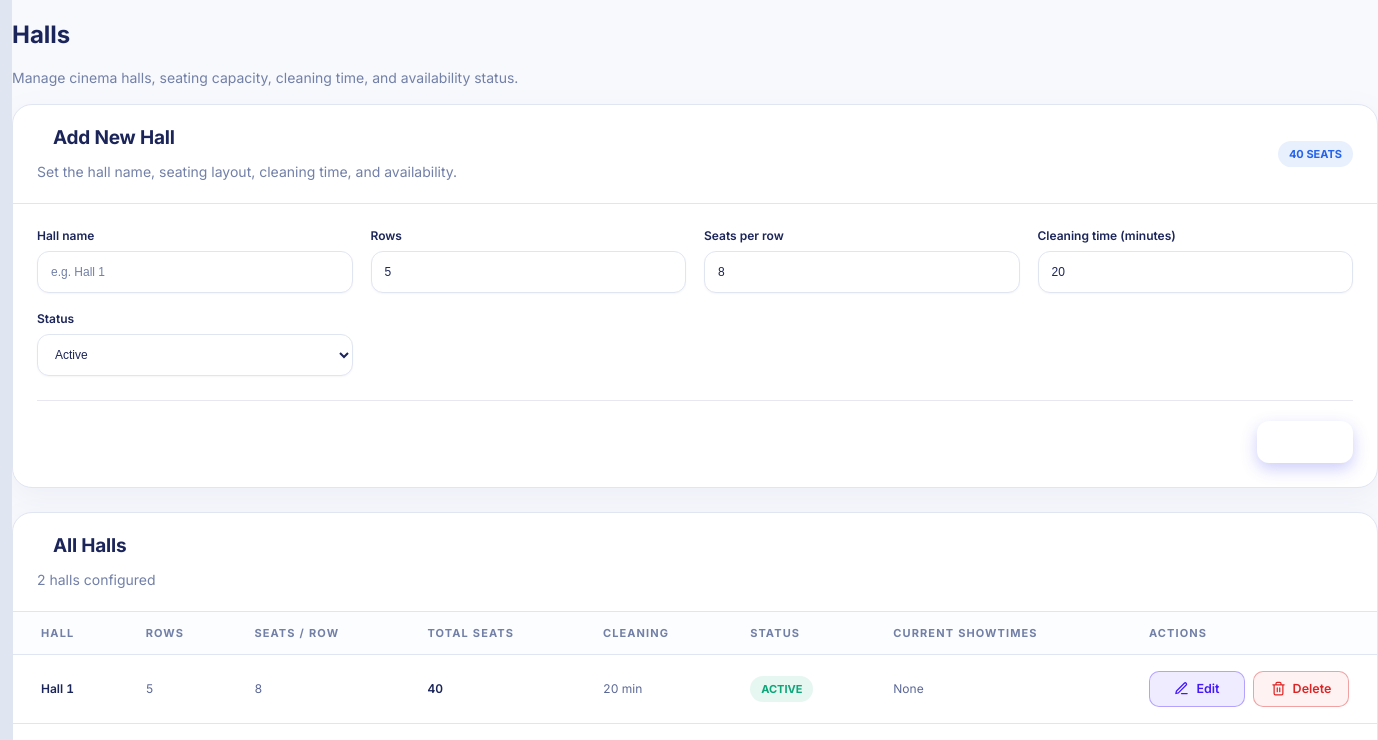
Test case: Halls Admin Page › should load the selected hall into the form for editing
Expected: the text "Hall 1" is shown, [13, 655, 126, 724]
Click the button "Edit" in the row of "Hall 1".
click(1197, 689)  # box [1149, 671, 1245, 707]
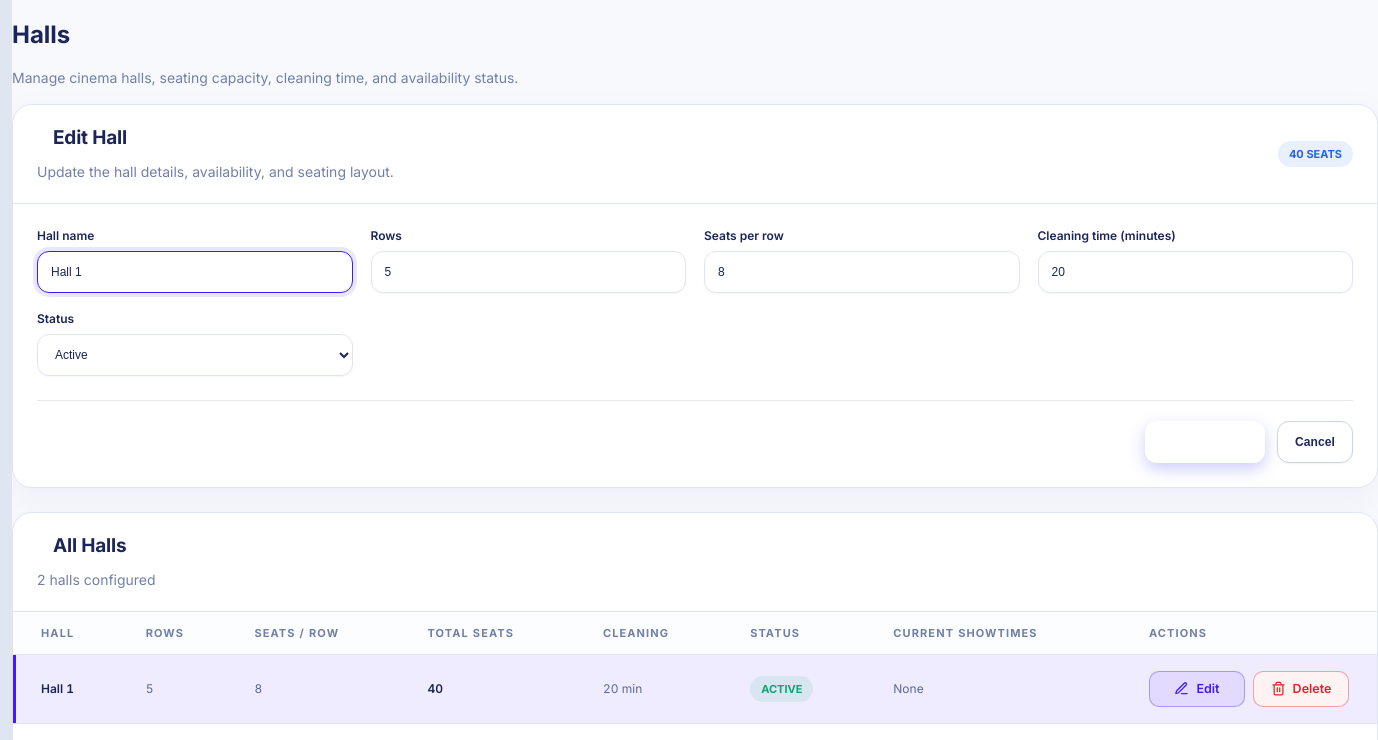
Now the heading "Edit Hall" is shown, box [53, 126, 127, 149]
Now the field labelled "Hall name" holds "Hall 1", box [37, 251, 352, 293]
Now the button "Cancel" is shown, box [1277, 421, 1353, 463]
